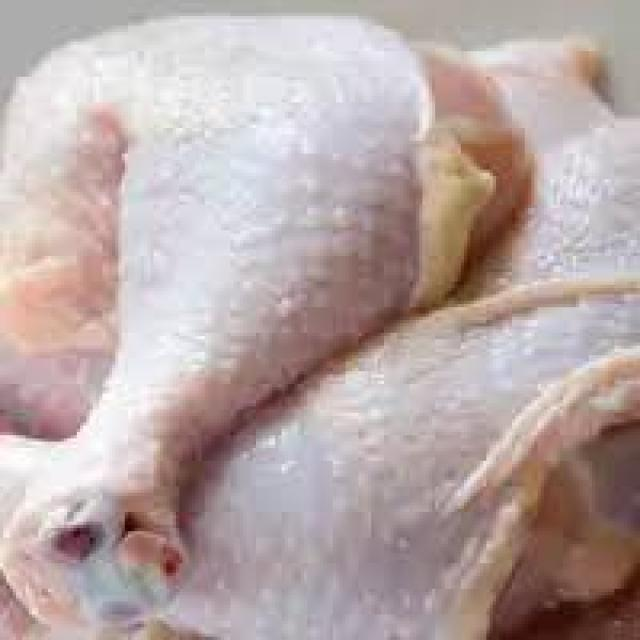quater: (0, 0, 550, 603)
